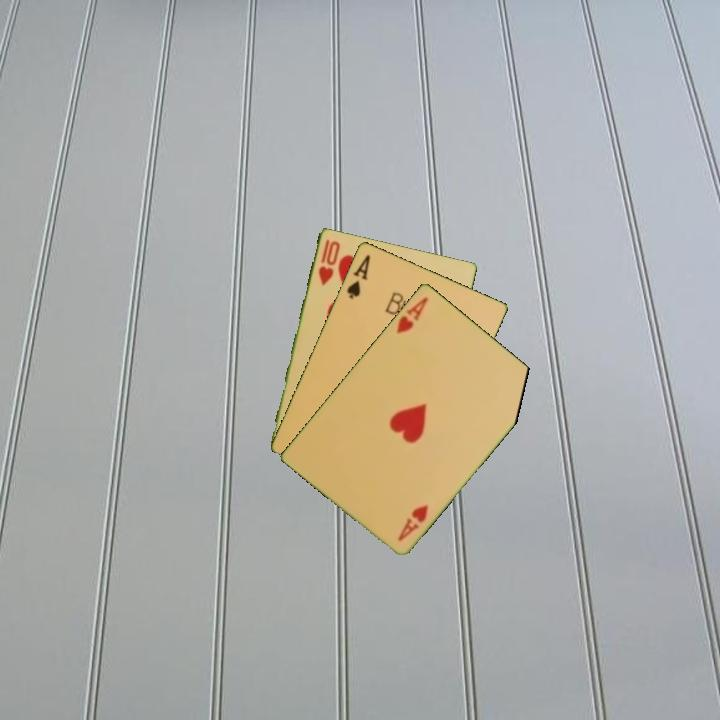10h: (314, 235, 343, 288)
Ah: (393, 293, 431, 336), (394, 500, 431, 544)
As: (343, 250, 373, 302)
